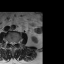CCS_severe_stenosis: (12, 39, 13, 47)
LFS_stenosis: (15, 40, 17, 45)
LLS_normal: (13, 39, 15, 46)
RFS_stenosis: (8, 39, 10, 45)
RLS_stenosis: (10, 40, 12, 47)
